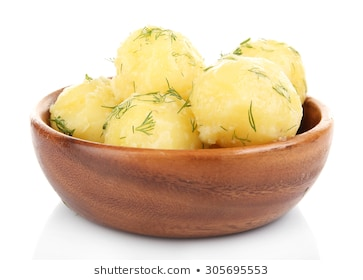boiled potatoes: (55, 34, 307, 138)
